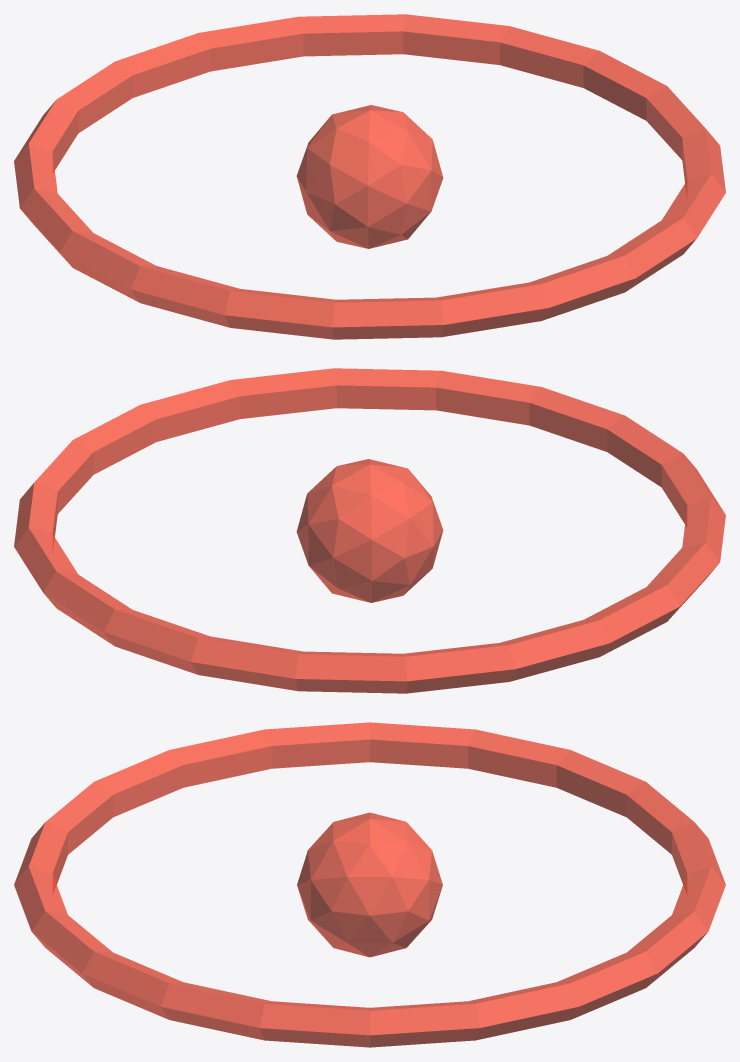
The model's file is climbable_surface_marker.glb.
3 renders of one model, top to bottom at view 1: azimuth 30°, elevation 25°; view 2: azimuth 150°, elevation 25°; view 3: azimuth 270°, elevation 25°, orthographic.
Parts seen in each view (by area): view 1: outline_ring, marker_core; view 2: outline_ring, marker_core; view 3: outline_ring, marker_core.
Boxes of the visible parts, x1,y1,x2,y2 form: outline_ring: (14,14,725,339); marker_core: (296,105,443,248); outline_ring: (14,368,725,693); marker_core: (296,459,443,602); outline_ring: (14,722,725,1047); marker_core: (297,812,442,957).
Bounding box in the file's own units: 1.17 × 0.24 × 1.17.
